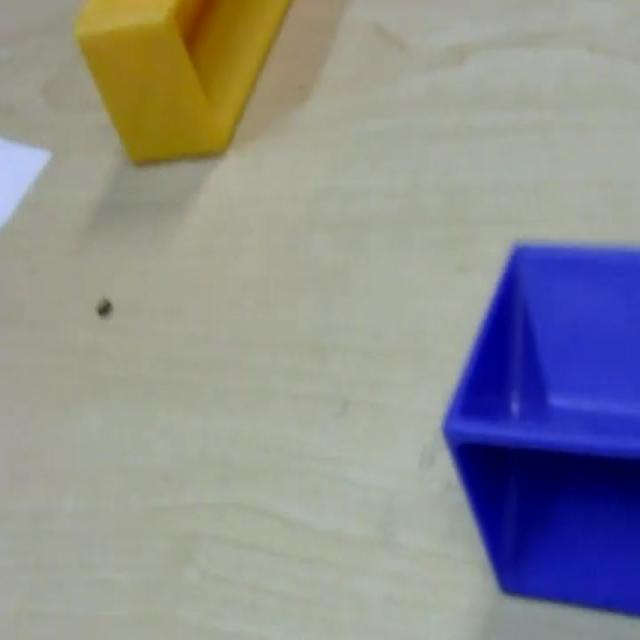blue_block: (441, 237, 639, 616)
yellow_block: (72, 0, 292, 167)
